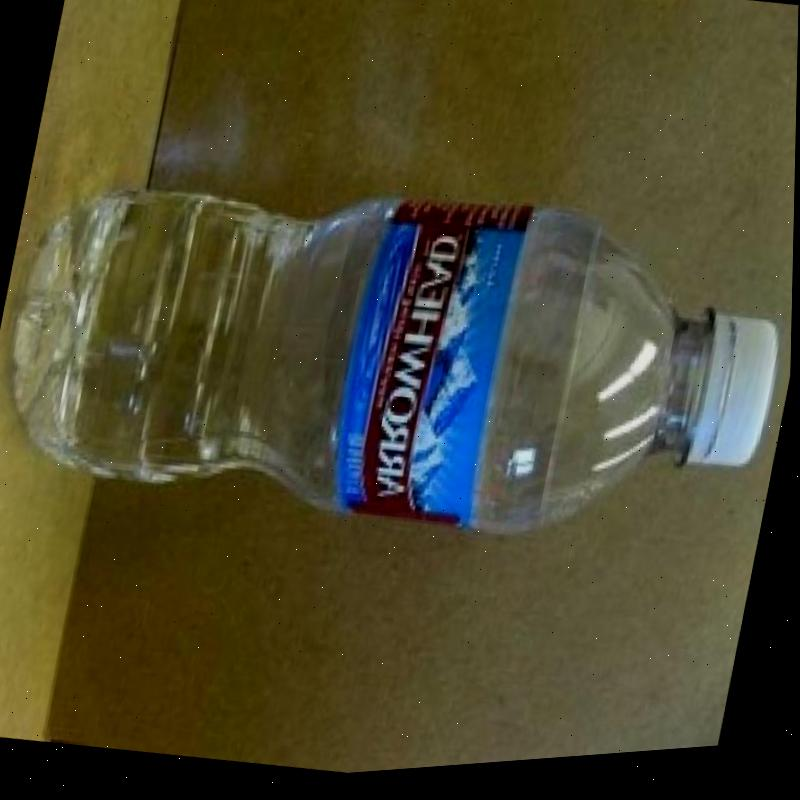botella: (0, 106, 797, 621)
